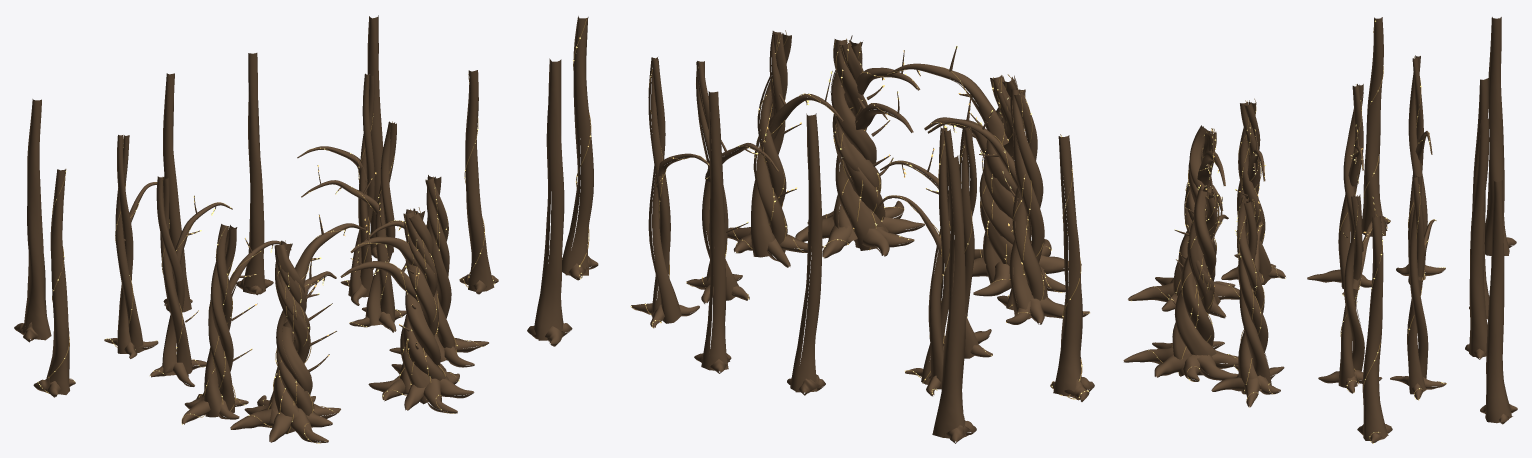
Rendered from reliquary-trees.glb.
3 renders of one model, left to right at view 1: azimuth 30°, elevation 25°; view 2: azimuth 150°, elevation 25°; view 3: azimuth 270°, elevation 25°, orthographic. The views are drawn at different scales.
Parts seen in each view (by area): view 1: bark, vines, buds; view 2: bark, vines, buds; view 3: bark, vines, buds.
Part boxes in pixels (x1=…): bark: x1=14, y1=15, x2=498, y2=442; vines: x1=38, y1=70, x2=495, y2=443; buds: x1=37, y1=83, x2=494, y2=443; bark: x1=527, y1=16, x2=1094, y2=443; vines: x1=573, y1=18, x2=1088, y2=399; buds: x1=573, y1=37, x2=1089, y2=399; bark: x1=1123, y1=17, x2=1517, y2=443; vines: x1=1129, y1=19, x2=1446, y2=442; buds: x1=1131, y1=20, x2=1446, y2=443.
Bounding box in the file's own units: 16.41 × 8.35 × 12.33.
